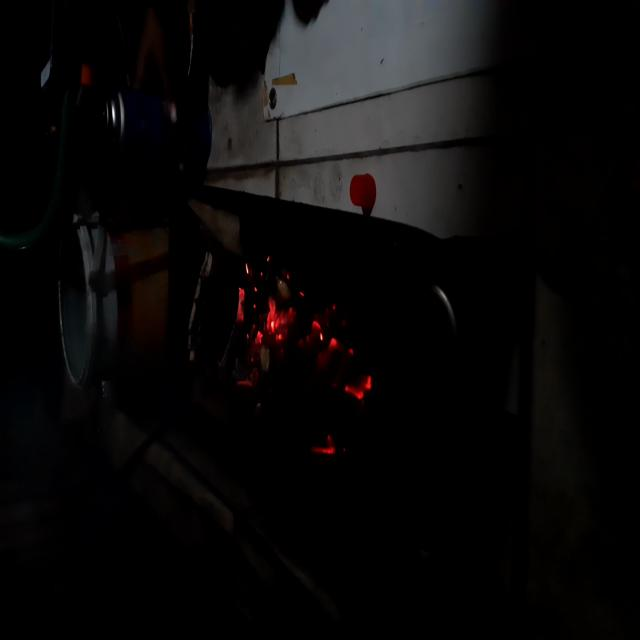Fire: (229, 240, 389, 481)
